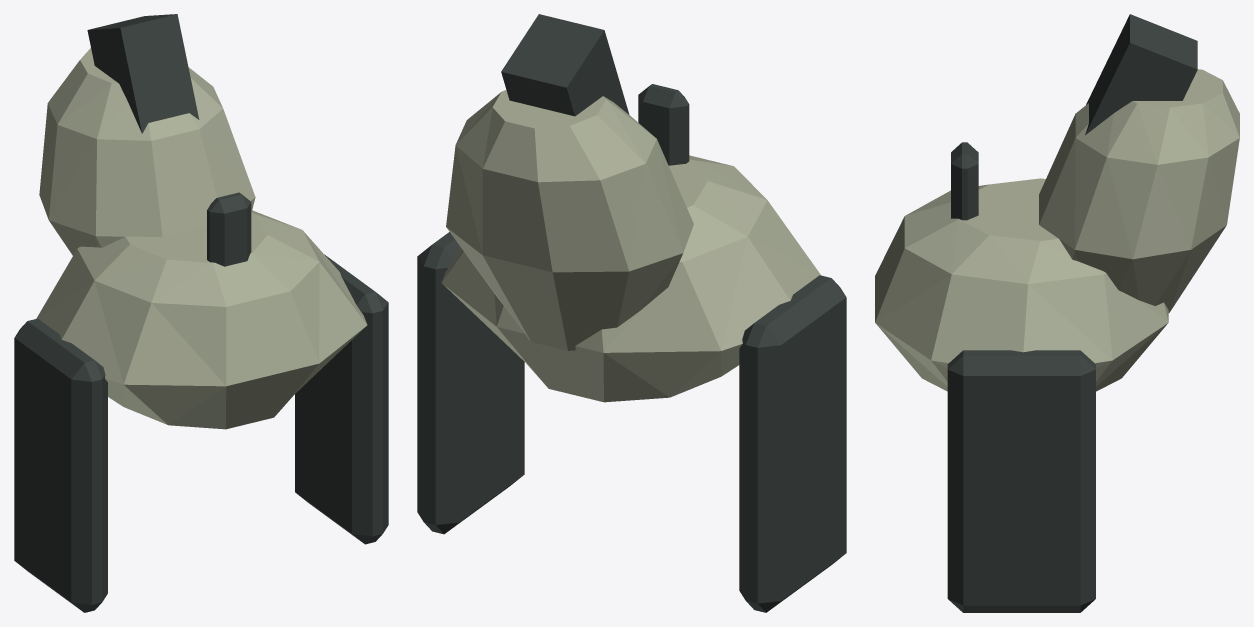
File: scyther.obj
The picture shows the model from 3 angles, left to right: view 1: azimuth 30°, elevation 25°; view 2: azimuth 150°, elevation 25°; view 3: azimuth 270°, elevation 25°; orthographic projection. The views are drawn at different scales.
Parts seen in each view (by area): view 1: scyther; view 2: scyther; view 3: scyther.
Part boxes in pixels (box(x1,y1,x2,y2)): scyther: box(14, 14, 388, 612); scyther: box(417, 14, 846, 612); scyther: box(875, 14, 1239, 612).
Size of the model in its own units: 0.61 by 0.9141 by 0.5909.
